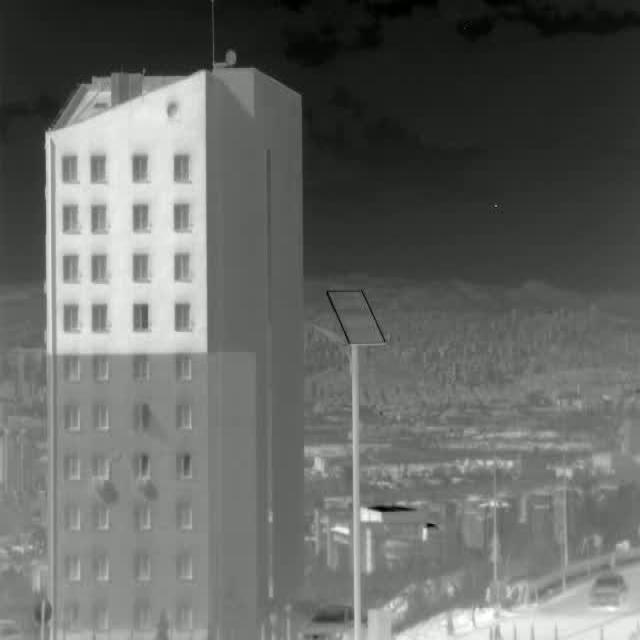Car: (294, 604, 368, 640), (588, 570, 628, 610)
